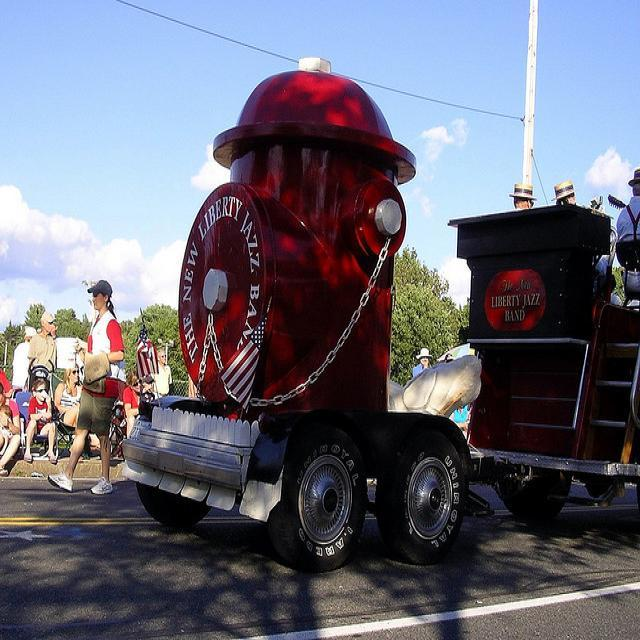fire_hydrant: (176, 54, 418, 416)
